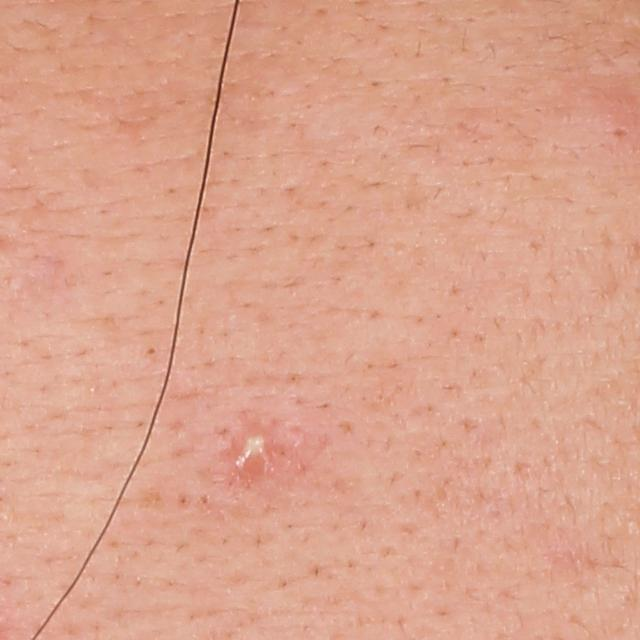comedo: (605, 121, 630, 145)
pustule: (230, 426, 276, 476)
